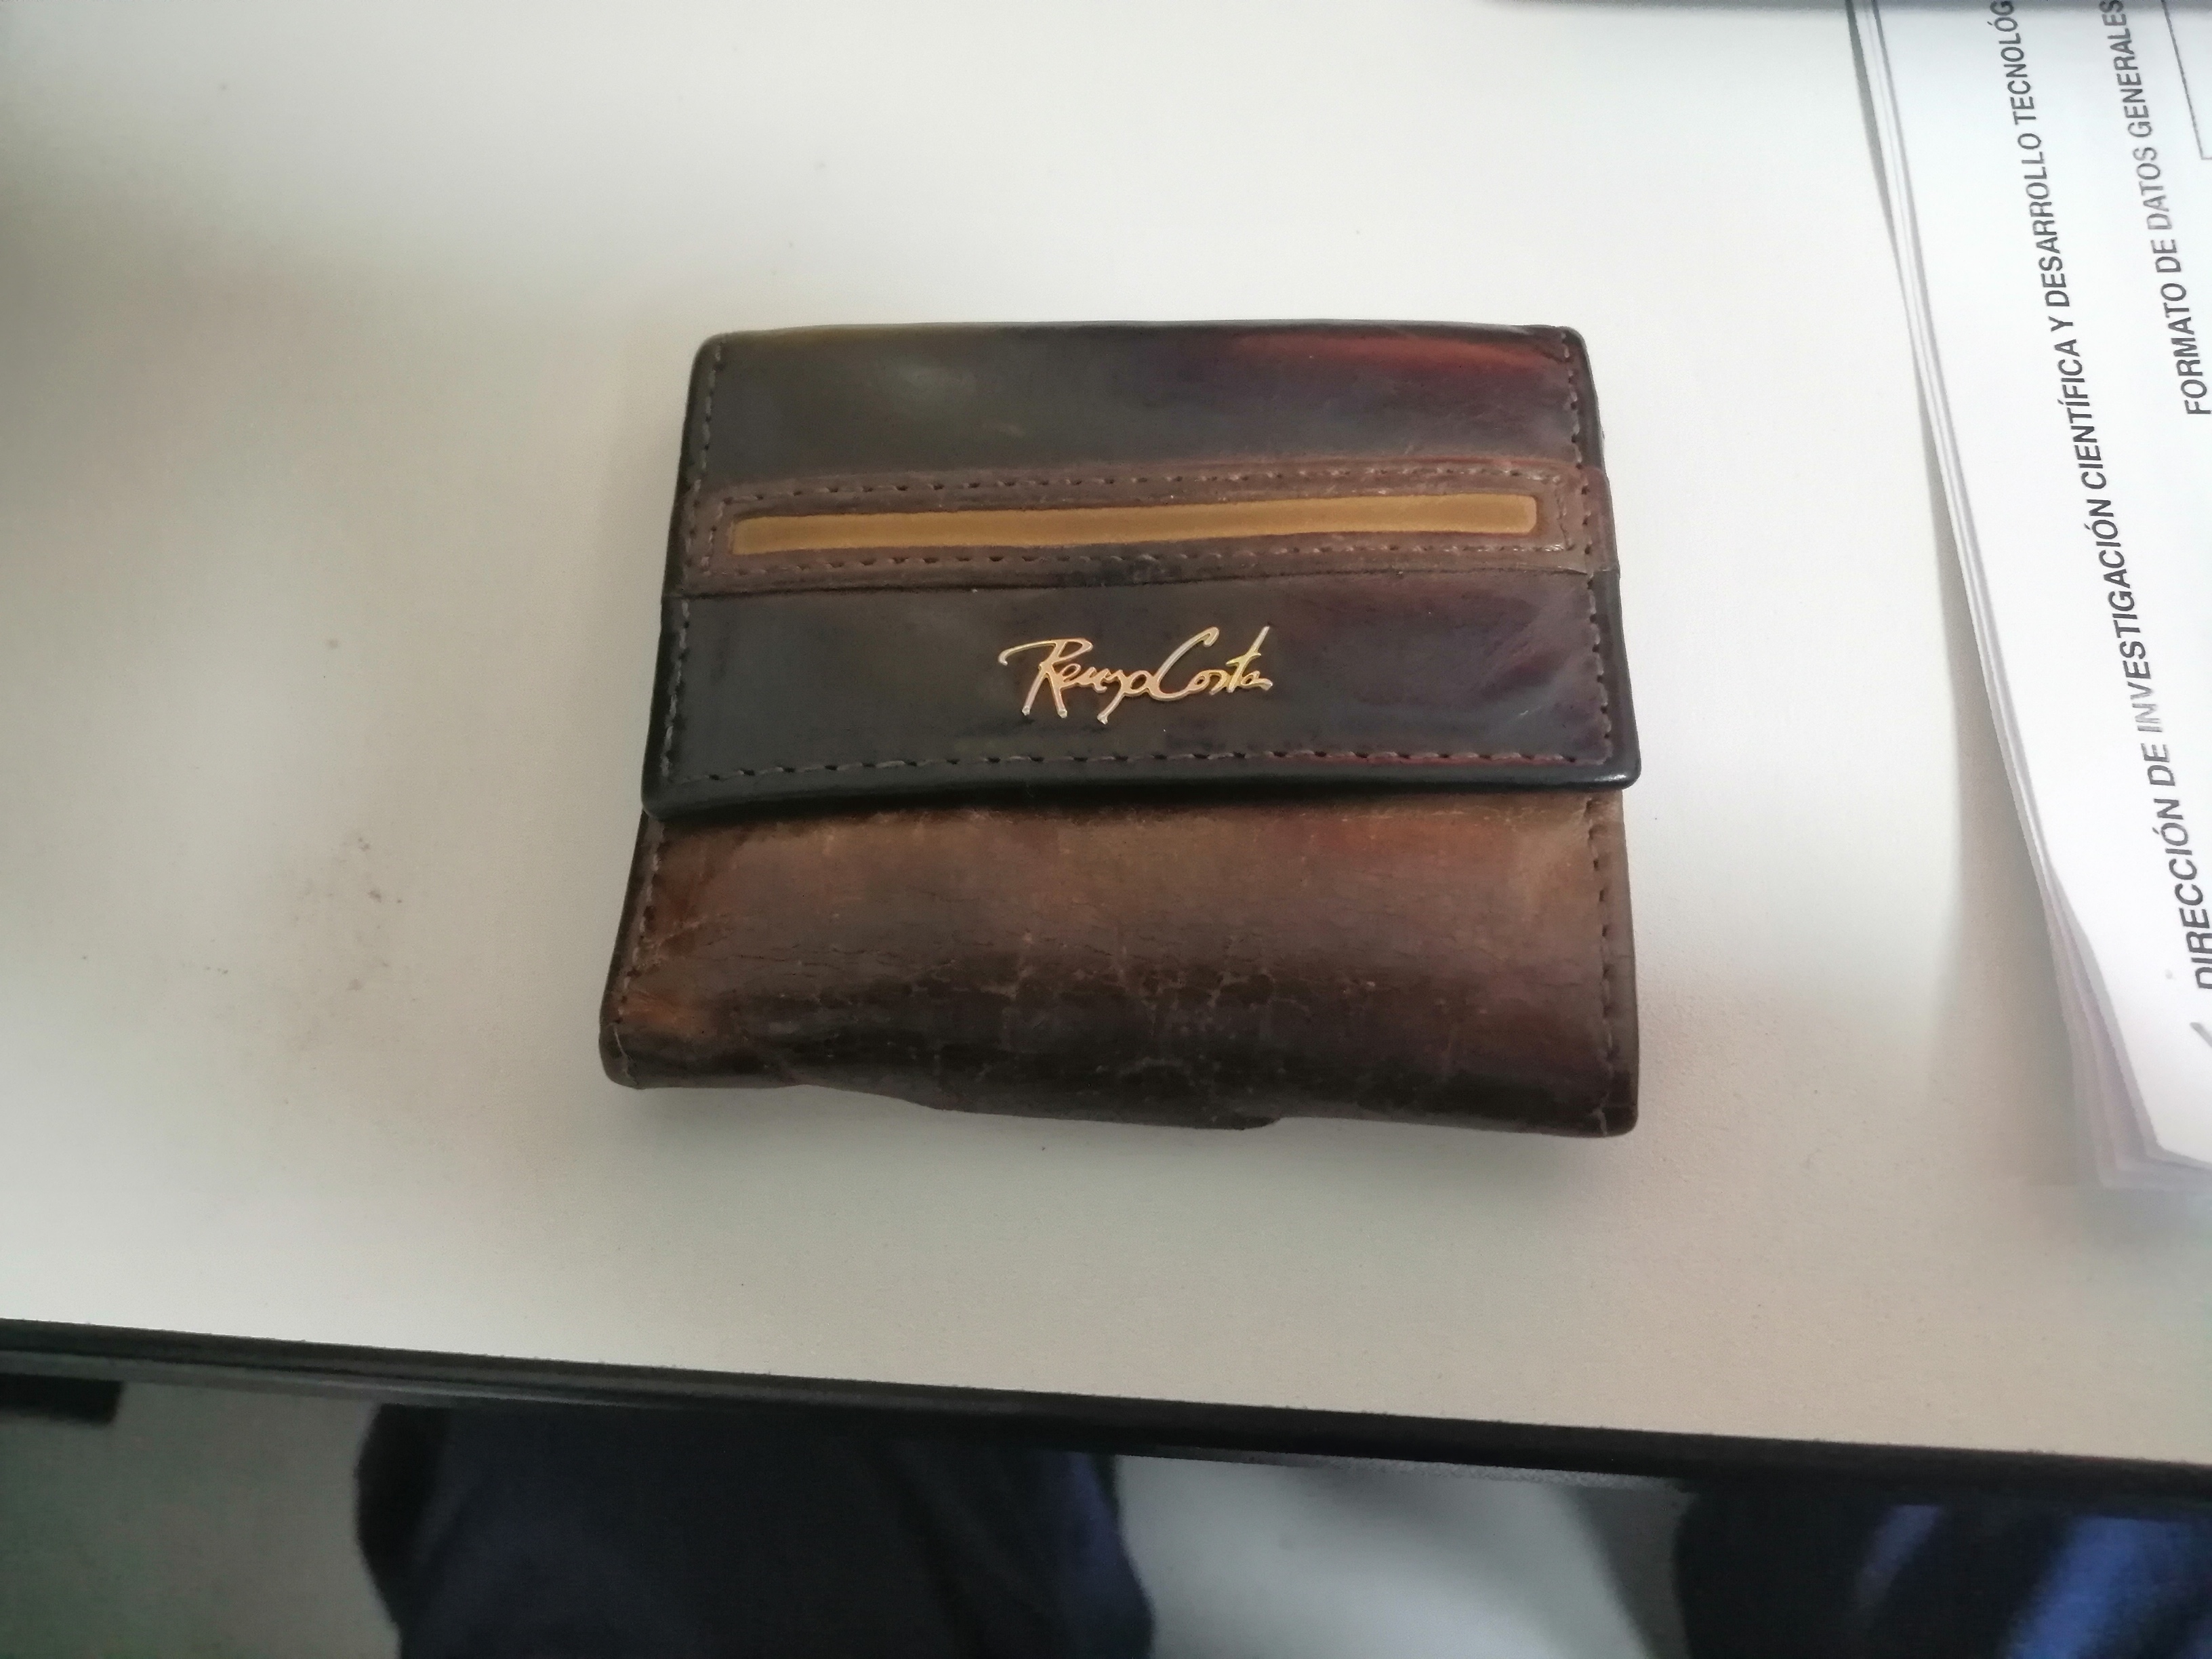monedero: (564, 300, 1719, 1175)
